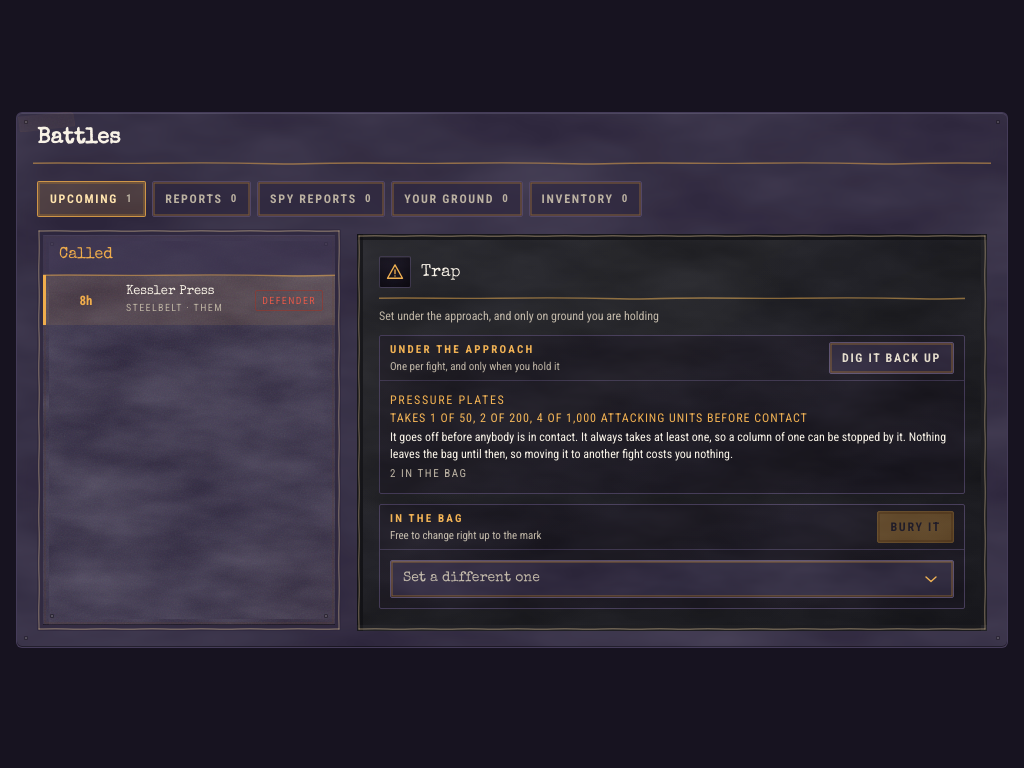
§I4: the Trap panel › prints what the buried trap and the one being looked at each do to the attack
(page scrolled)
Click the dropdown with test id "trap-option-picker": (471, 578) left=390, top=560, right=954, bottom=598
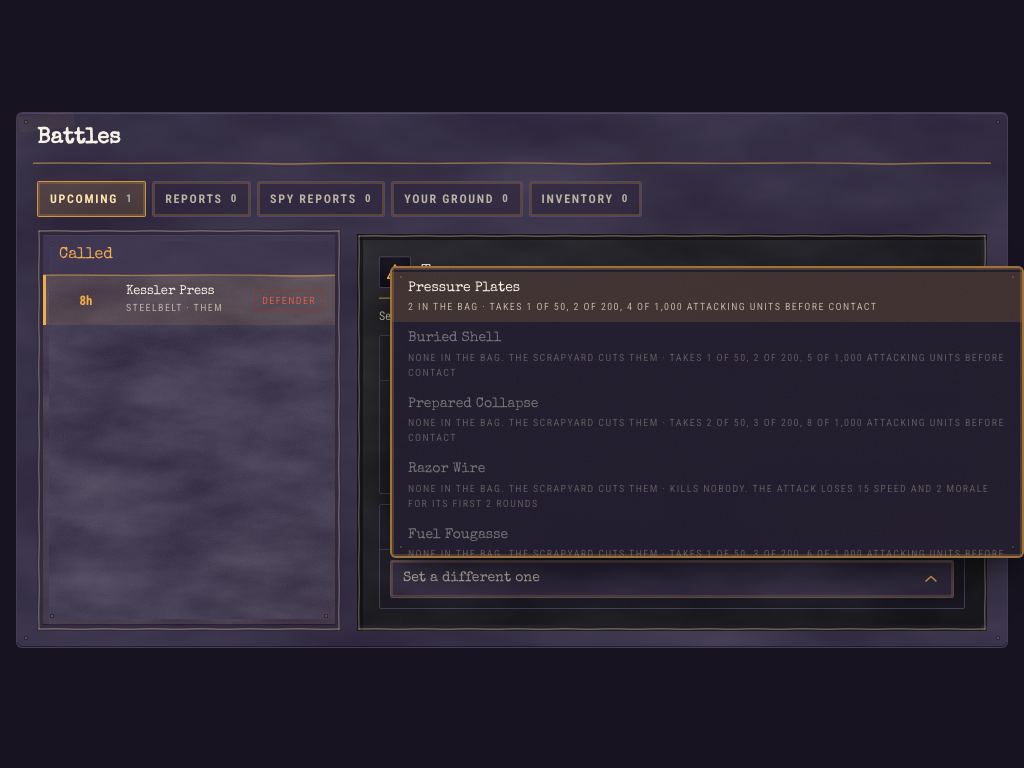
Click the option that starts with "Pressure Plates": (464, 288) left=392, top=272, right=1022, bottom=322
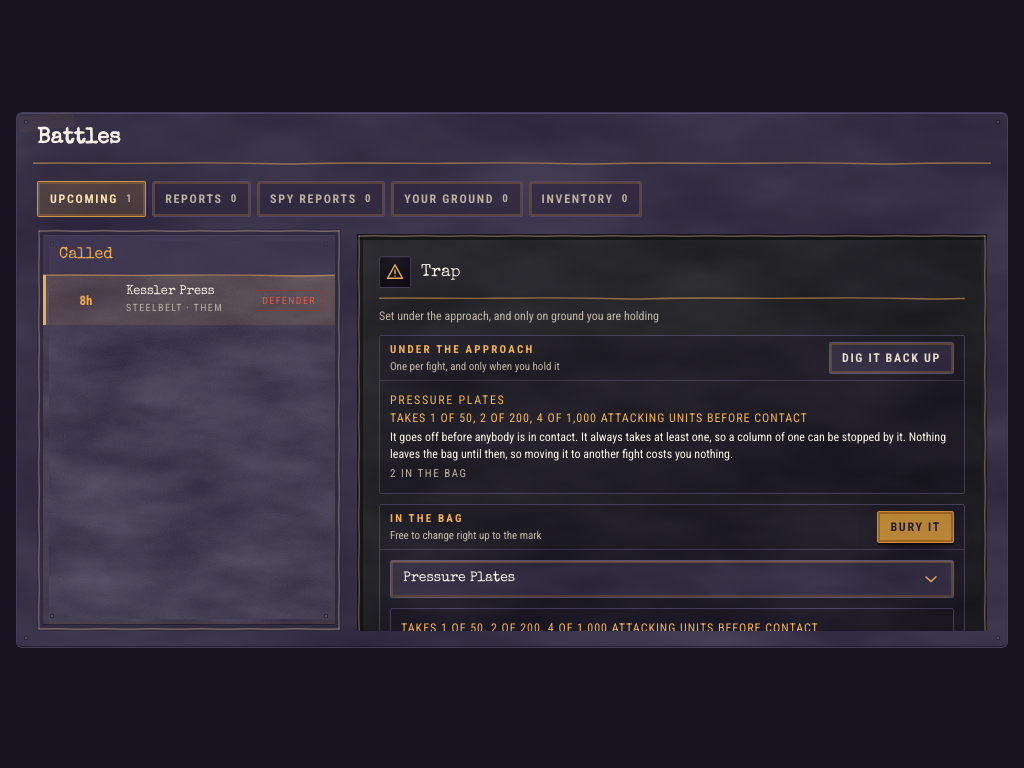
Click the dropdown with test id "trap-option-picker": (459, 578) left=390, top=560, right=954, bottom=598
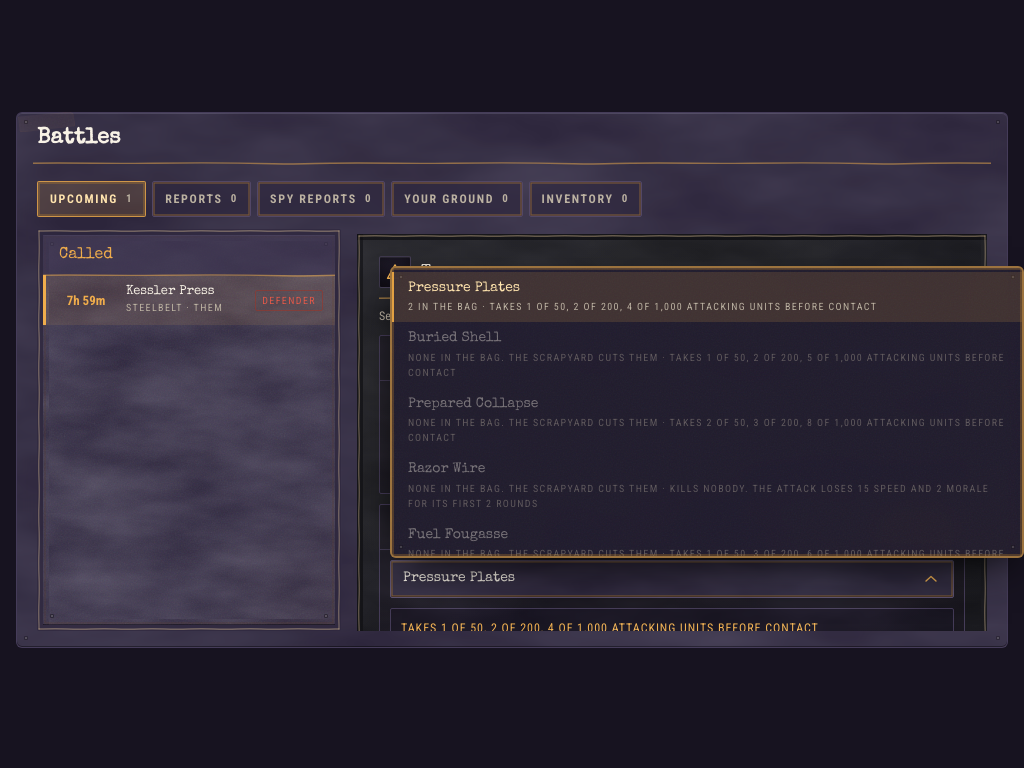
Now the option that starts with "Razor Wire" shows "Kills nobody. The attack loses 15 speed and 2 morale for its first 2 rounds", box left=392, top=454, right=1022, bottom=519
